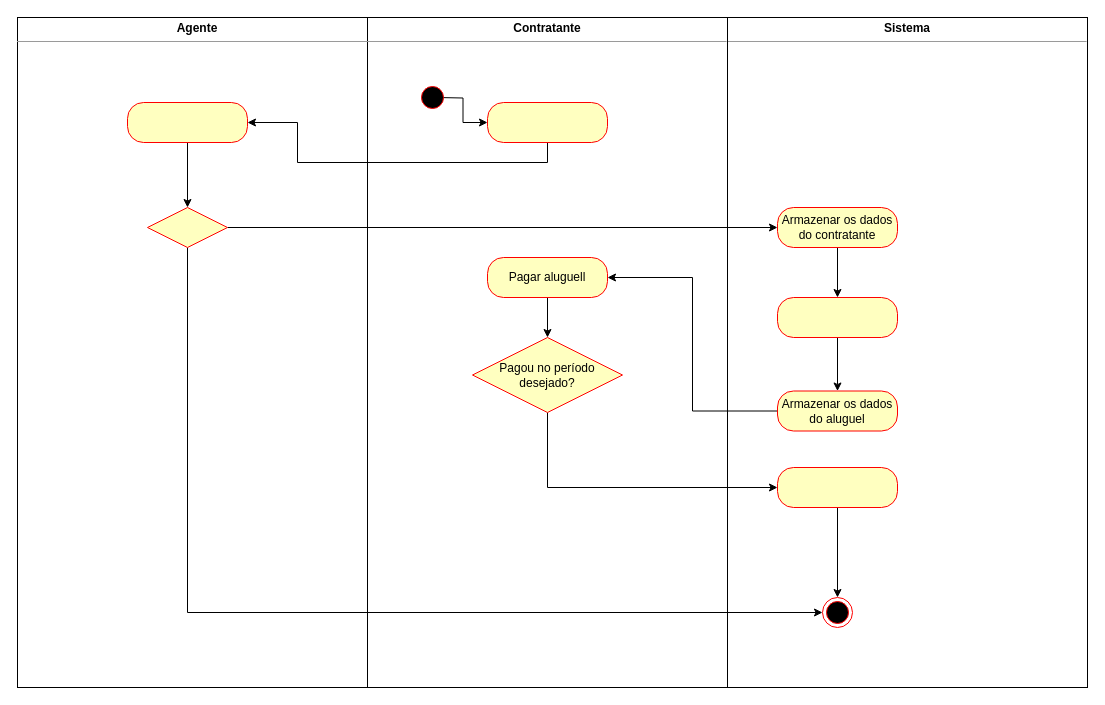
Image size: 1105x705. Some labels were removed from this diagram. The shapes that lost their labels are listed below. From the top down, each one's centre as x and y in pixels, then its label:
At point 187,122: "Analisar Pedidos".
At point 547,122: "Solicitar aluguel".
At point 837,317: "Armazenar os dados do automóvel".
At point 837,487: "Registrar número de cartão".
